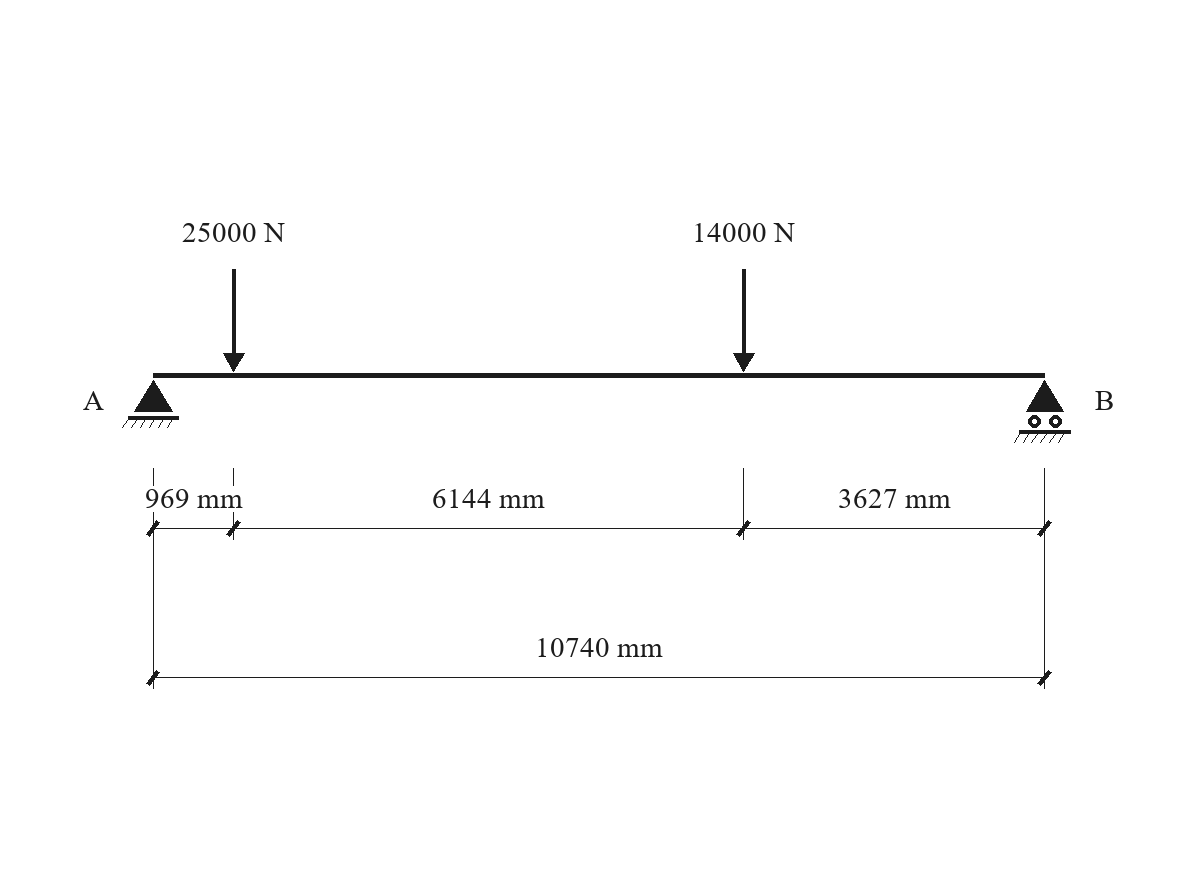pin_support: (122, 380, 179, 428)
point_load: (223, 269, 245, 372), (733, 269, 755, 372)
roller_support: (1014, 380, 1071, 443)
